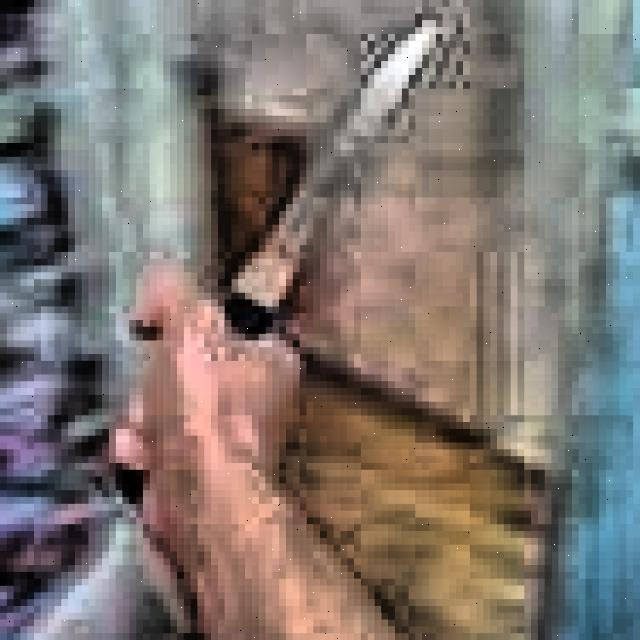knife: (126, 33, 438, 505)
